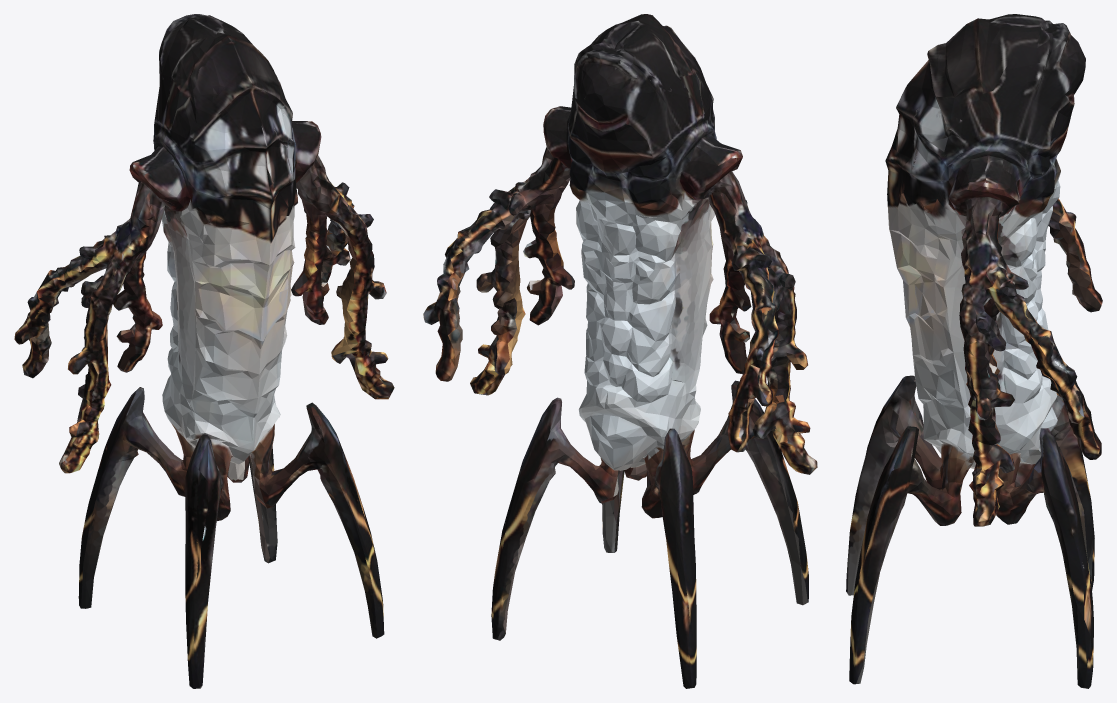
The picture shows the model from 3 angles, left to right: view 1: azimuth 30°, elevation 25°; view 2: azimuth 150°, elevation 25°; view 3: azimuth 270°, elevation 25°; orthographic projection. The views are drawn at different scales.
Parts seen in each view (by area): view 1: figure; view 2: figure; view 3: figure.
Part boxes in pixels (x1,y1,x2,y2): figure: (14,14,394,688); figure: (423,14,817,688); figure: (846,14,1102,688).
Size of the model in its own units: 0.8954 by 1.5 by 0.5609.
1 material, 1 textured.
